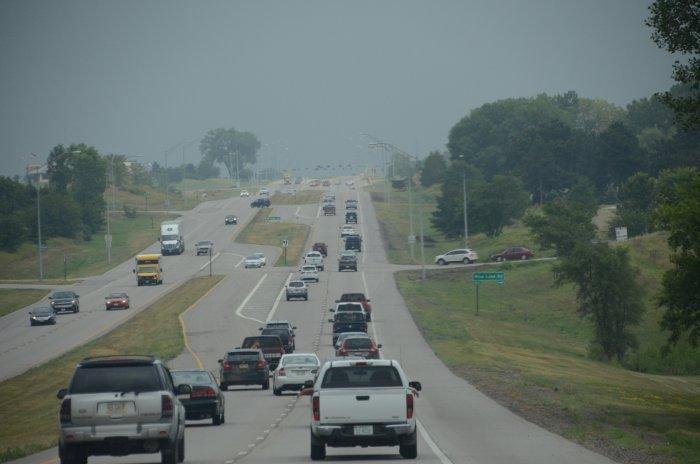bus: (133, 254, 164, 286), (157, 220, 185, 255), (283, 174, 292, 185), (309, 179, 320, 186), (295, 176, 304, 184)
car: (56, 354, 193, 464), (305, 359, 422, 461), (160, 369, 229, 426), (310, 356, 370, 409), (269, 352, 321, 396), (235, 335, 289, 377), (217, 349, 270, 390), (334, 337, 382, 369), (328, 312, 369, 347), (258, 322, 297, 351), (335, 293, 373, 322), (329, 302, 368, 330), (260, 328, 296, 355), (335, 332, 369, 357), (48, 290, 81, 314), (435, 248, 478, 266), (491, 247, 535, 262), (28, 306, 56, 326), (285, 281, 310, 301), (302, 251, 325, 271), (105, 292, 130, 310), (337, 254, 358, 272), (299, 265, 319, 283), (194, 240, 214, 256), (343, 236, 362, 252), (311, 242, 328, 258), (243, 256, 261, 269), (250, 198, 271, 209), (252, 253, 267, 266), (341, 250, 355, 263), (323, 203, 337, 216), (345, 211, 358, 224), (224, 214, 238, 226), (348, 232, 361, 244), (341, 225, 354, 237), (321, 194, 333, 205), (345, 199, 357, 209), (259, 187, 269, 196), (325, 192, 336, 200), (345, 177, 354, 185), (240, 190, 250, 197), (322, 179, 330, 187), (334, 180, 340, 185)
